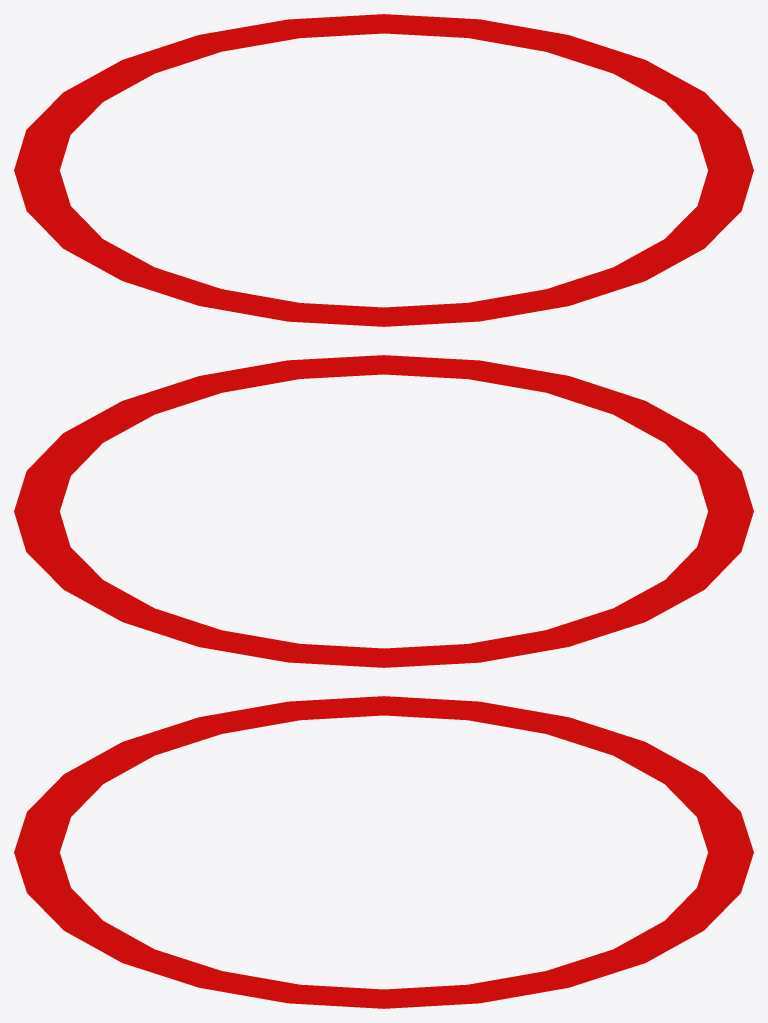
File: NavMeshStart.fbx
3 views of the same model, one above another, from view 1: azimuth 30°, elevation 25°; view 2: azimuth 150°, elevation 25°; view 3: azimuth 270°, elevation 25° (orthographic).
Visible parts, largest first — view 1: PatronZone; view 2: PatronZone; view 3: PatronZone.
Boxes of the visible parts, x1,y1,x2,y2 form: PatronZone: (14, 14, 753, 326); PatronZone: (14, 355, 753, 667); PatronZone: (14, 696, 753, 1008).
Size of what is drawn, in the model's own units: 33.01 by 2e-15 by 33.01.
